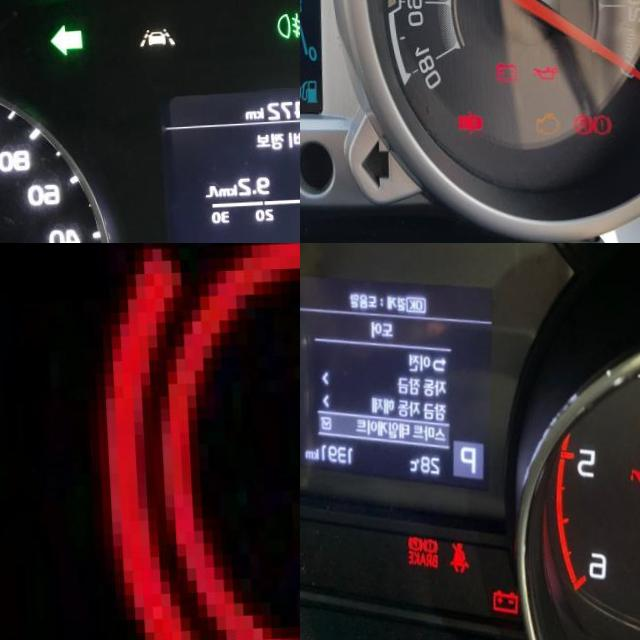Doors: (454, 113, 480, 138)
FrontFogLight: (273, 12, 300, 41)
LaneCenteringOff: (136, 27, 177, 49)
